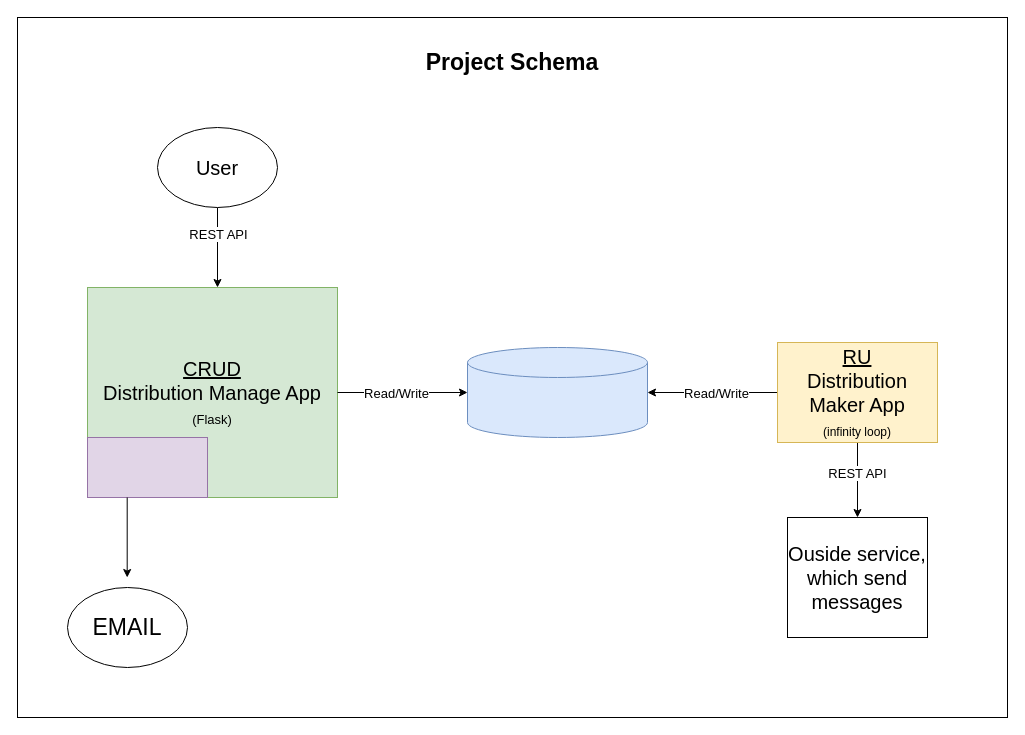
Some shapes in this 1025 by 735 pixel diagram are drawn without their labels. The centre of each missing label's shape, as x and y in pixels:
DB (PostgreSQL+SQLAlchemy): point (557, 392)
Send report once a day to email (Flask_APScheduler): point (147, 467)
